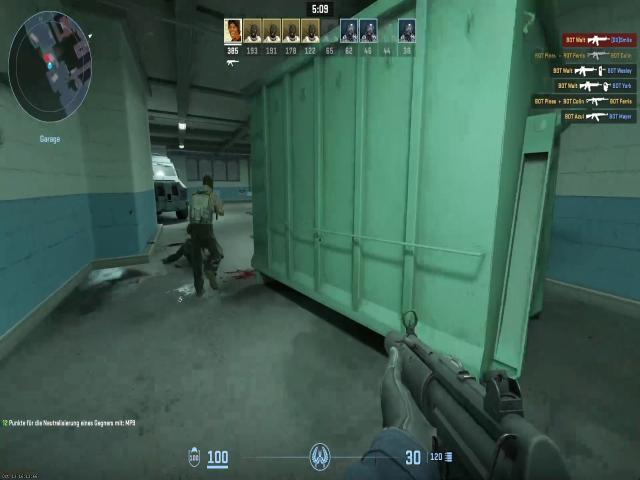T: (186, 177, 222, 239)
T-Head: (204, 168, 218, 192)
